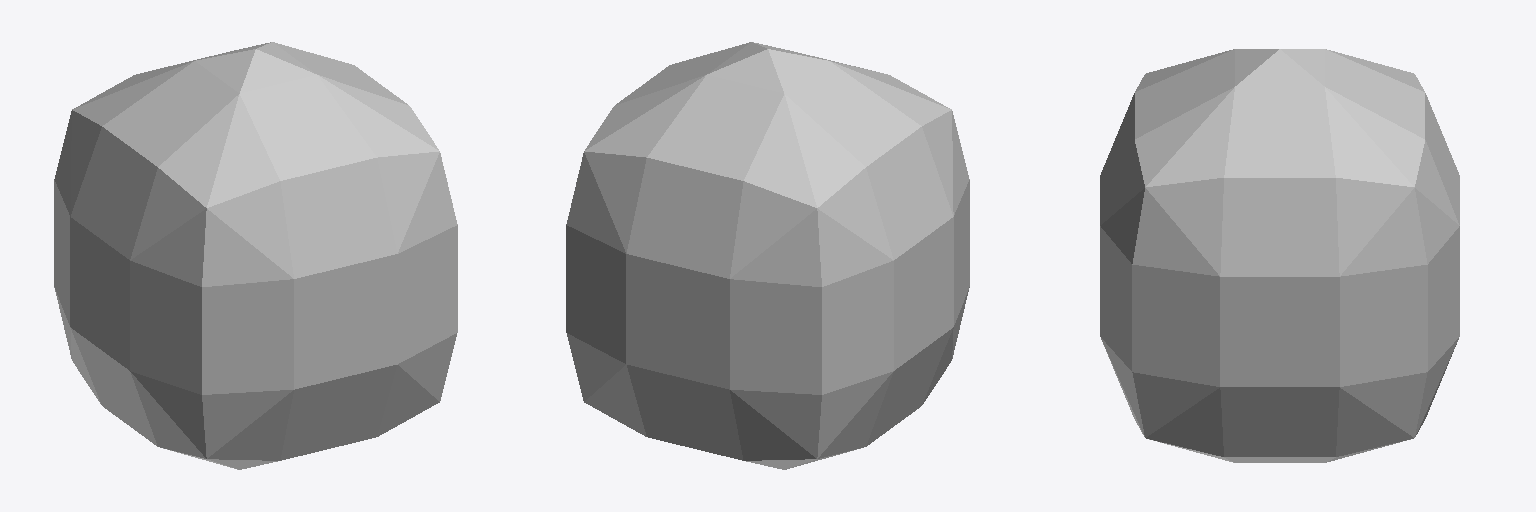
File: teeth_smoothed_10.obj
3 renders of one model, left to right at view 1: azimuth 30°, elevation 25°; view 2: azimuth 150°, elevation 25°; view 3: azimuth 270°, elevation 25°, orthographic.
Bounding box in the file's own units: 1.72 × 2.19 × 1.72.